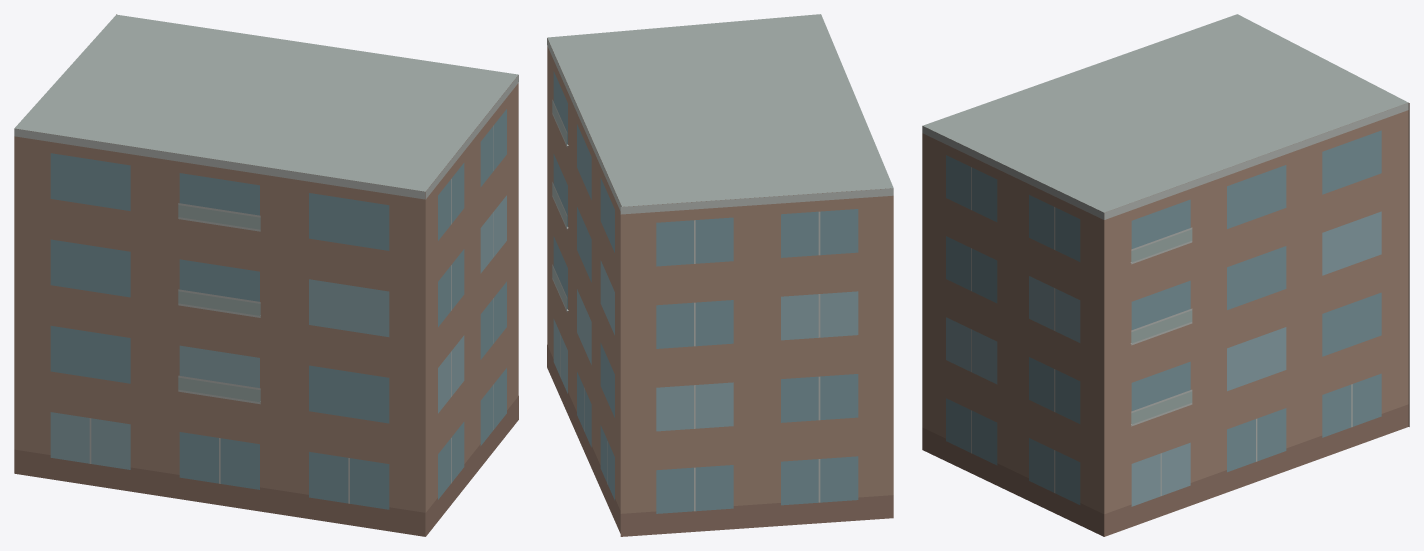
The model's file is survey-upis-32818457.glb.
The picture shows the model from 3 angles, left to right: view 1: azimuth 30°, elevation 25°; view 2: azimuth 150°, elevation 25°; view 3: azimuth 270°, elevation 25°; orthographic projection. The views are drawn at different scales.
Parts seen in each view (by area): view 1: survey-upis-32818457.tmp; view 2: survey-upis-32818457.tmp; view 3: survey-upis-32818457.tmp.
Boxes of the visible parts, x1=… form: survey-upis-32818457.tmp: x1=14, y1=14, x2=518, y2=536; survey-upis-32818457.tmp: x1=547, y1=14, x2=893, y2=536; survey-upis-32818457.tmp: x1=922, y1=14, x2=1409, y2=536.
Bounding box in the file's own units: 14.01 × 10.65 × 14.51.
